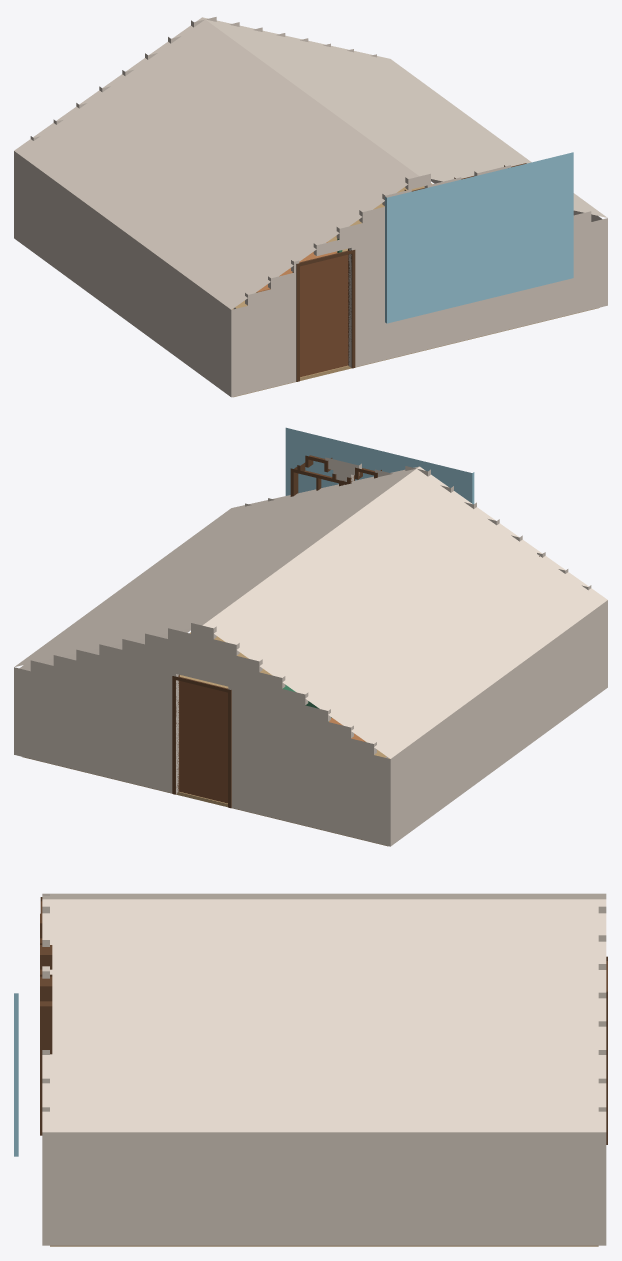
File: room_game_b.glb
3 views of the same model, one above another, from view 1: azimuth 30°, elevation 25°; view 2: azimuth 150°, elevation 25°; view 3: azimuth 270°, elevation 25° (orthographic). The views are drawn at different scales.
Parts seen in each view (by area): view 1: CEILING, WALLS, VIEW_window_N, DOOR_stairs, FRAMES, FLOOR_visible; view 2: CEILING, WALLS, DOOR_game_a, VIEW_window_N, FRAMES; view 3: CEILING, WALLS, FRAMES, FLOOR_visible, VIEW_window_N.
Part boxes in pixels (x1=…): CEILING: x1=14, y1=17, x2=607, y2=309; WALLS: x1=14, y1=17, x2=607, y2=397; VIEW_window_N: x1=385, y1=152, x2=573, y2=323; DOOR_stairs: x1=300, y1=255, x2=348, y2=377; FRAMES: x1=292, y1=163, x2=526, y2=381; FLOOR_visible: x1=233, y1=307, x2=599, y2=397; CEILING: x1=15, y1=466, x2=607, y2=758; WALLS: x1=14, y1=457, x2=607, y2=846; DOOR_game_a: x1=179, y1=681, x2=227, y2=803; VIEW_window_N: x1=285, y1=427, x2=474, y2=504; FRAMES: x1=172, y1=455, x2=539, y2=808; CEILING: x1=42, y1=893, x2=606, y2=1132; WALLS: x1=42, y1=894, x2=606, y2=1245; FRAMES: x1=40, y1=897, x2=607, y2=1144; FLOOR_visible: x1=50, y1=1245, x2=598, y2=1246; VIEW_window_N: x1=14, y1=993, x2=18, y2=1156.
Bounding box in the file's own units: 7.2 × 3.26 × 7.58.
